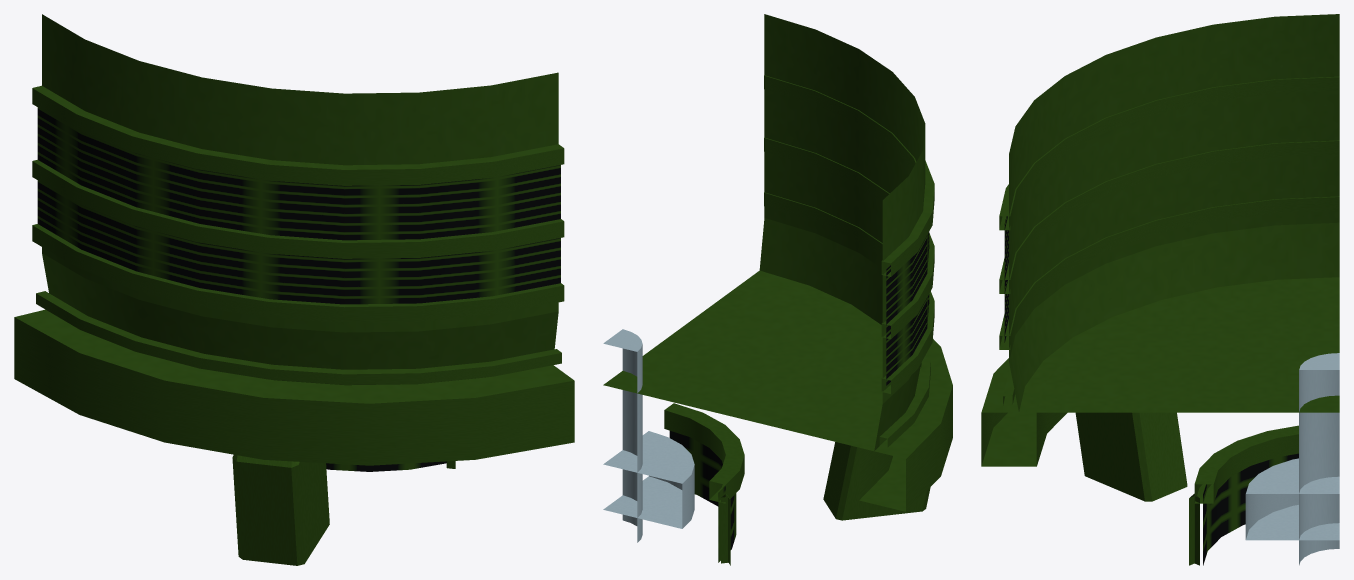
Rendered from cell_21.obj.
3 renders of one model, left to right at view 1: azimuth 30°, elevation 25°; view 2: azimuth 150°, elevation 25°; view 3: azimuth 270°, elevation 25°, orthographic. The views are drawn at different scales.
Parts seen in each view (by area): view 1: cell_21; view 2: cell_21; view 3: cell_21.
Boxes of the visible parts, x1,y1,x2,y2 form: cell_21: (14,14,574,565); cell_21: (603,14,952,565); cell_21: (981,14,1339,565).
Bounding box in the file's own units: 0.7875 × 1 × 0.7875.
